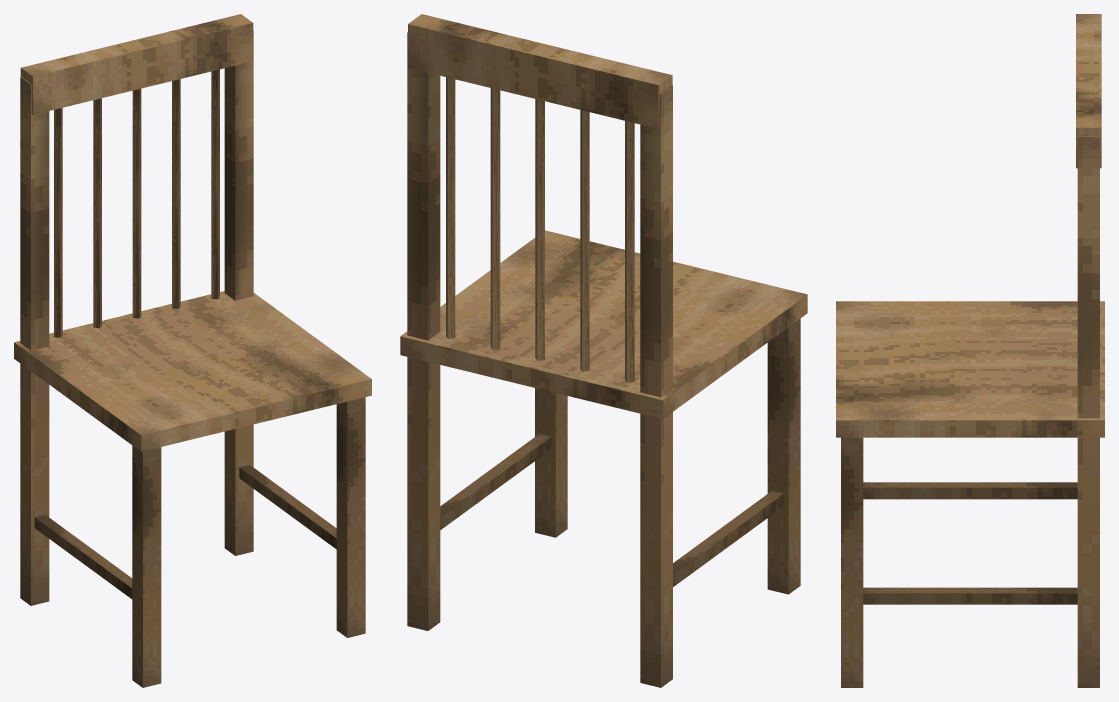
The model's file is chair_ladder_pine.glb.
The picture shows the model from 3 angles, left to right: view 1: azimuth 30°, elevation 25°; view 2: azimuth 150°, elevation 25°; view 3: azimuth 270°, elevation 25°; orthographic projection. The views are drawn at different scales.
Parts seen in each view (by area): view 1: chair_ladder_pine; view 2: chair_ladder_pine; view 3: chair_ladder_pine.
Part boxes in pixels (box(x1,y1,x2,y2)): chair_ladder_pine: box(14, 14, 371, 687); chair_ladder_pine: box(400, 14, 807, 687); chair_ladder_pine: box(836, 14, 1104, 687).
Bounding box in the file's own units: 0.44 × 0.965 × 0.42.
Materials: 1 (1 with a texture image).
